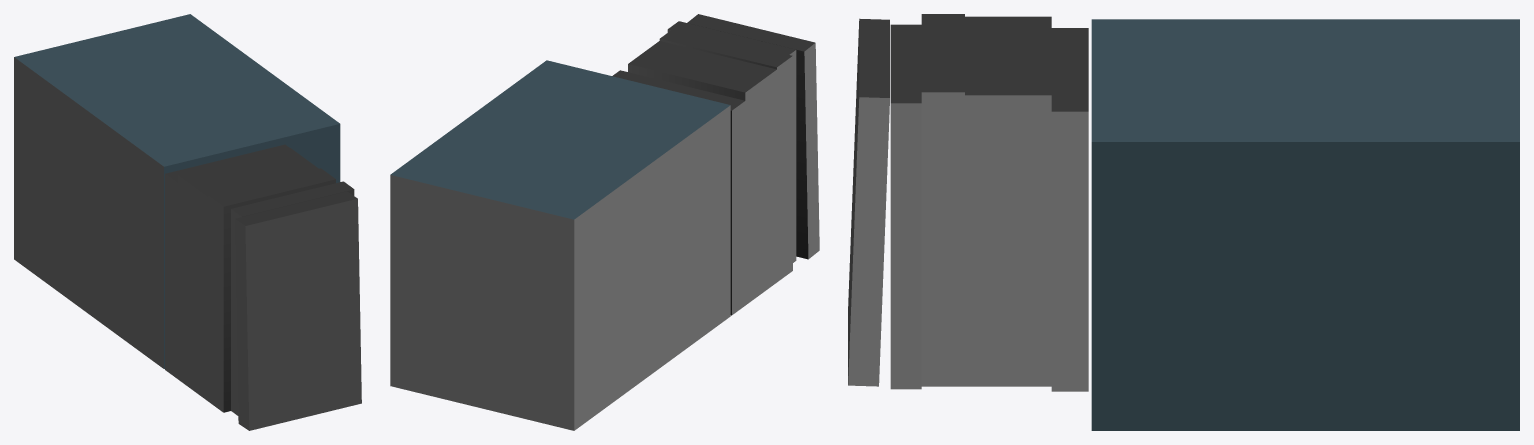
3 renders of one model, left to right at view 1: azimuth 30°, elevation 25°; view 2: azimuth 150°, elevation 25°; view 3: azimuth 270°, elevation 25°, orthographic. The views are drawn at different scales.
Parts seen in each view (by area): view 1: Joint_0_Object_0, Joint_0_Object_1; view 2: Joint_0_Object_0, Joint_0_Object_1; view 3: Joint_0_Object_1, Joint_0_Object_0.
Part boxes in pixels (<box>): Joint_0_Object_0: <box>14,57,361,430</box>; Joint_0_Object_1: <box>14,14,340,368</box>; Joint_0_Object_0: <box>390,14,819,430</box>; Joint_0_Object_1: <box>390,60,730,219</box>; Joint_0_Object_1: <box>1091,19,1519,430</box>; Joint_0_Object_0: <box>848,14,1088,391</box>.
Size of the model in its own units: 470 by 525 by 1086.
